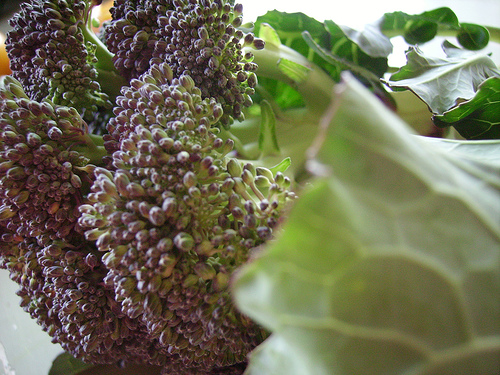broccoli: (1, 0, 437, 374)
